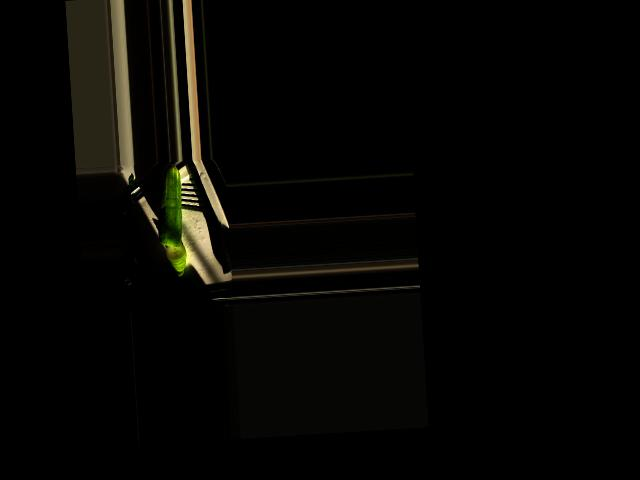cucumber: (154, 163, 185, 249)
